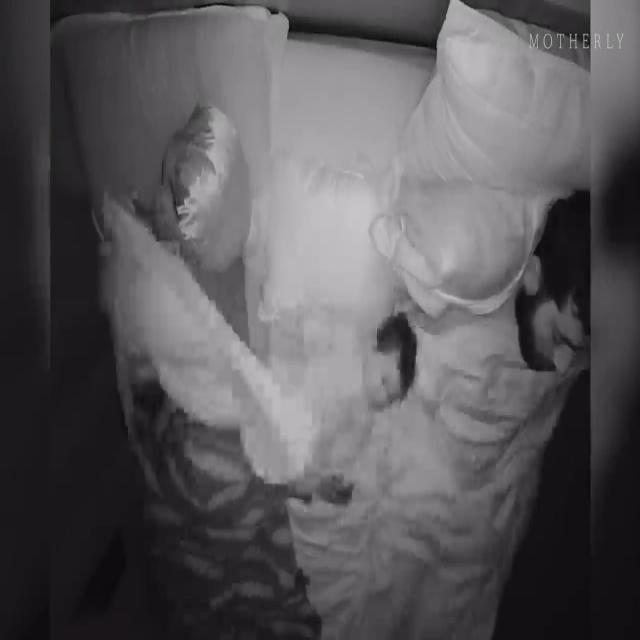baby: (259, 310, 416, 475)
